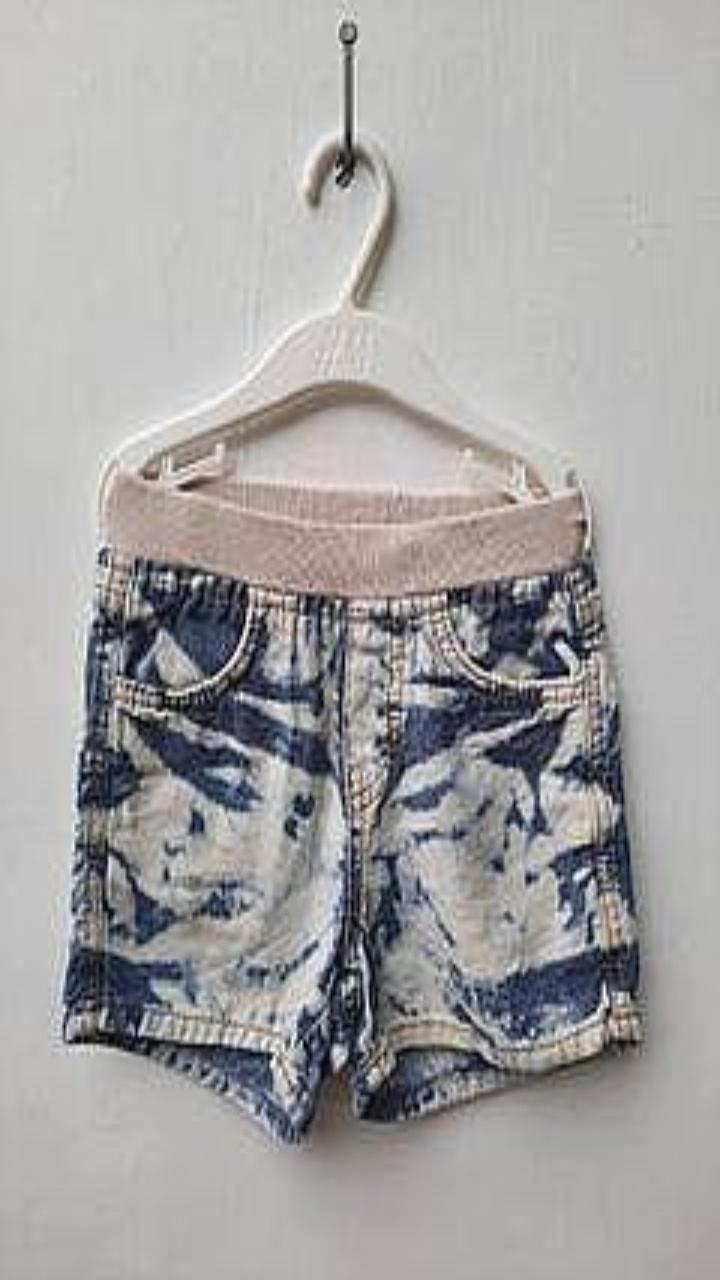Shorts: (63, 467, 640, 1141)
